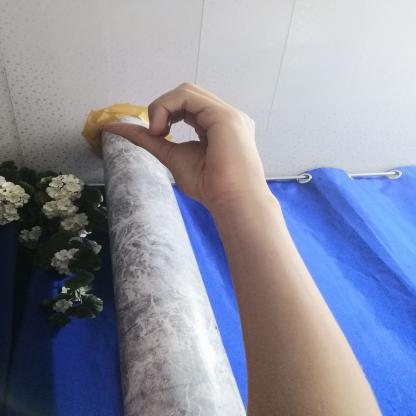WAW: (85, 72, 284, 216)
